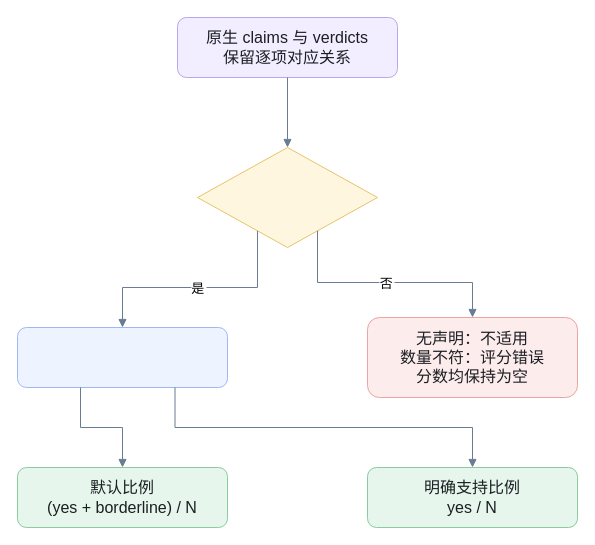
The diagram is 595 pixels wide and 545 high, and some of its shapes have lost their labels. The shapes that lost their labels are listed below. From the top down, each one's box as (x1, y1, x2, y2) in pixels, then its label:
(196, 146, 378, 248): 声明非空且 裁决数量对齐？
(16, 326, 228, 388): 复用同一批裁决 仅改变聚合口径
